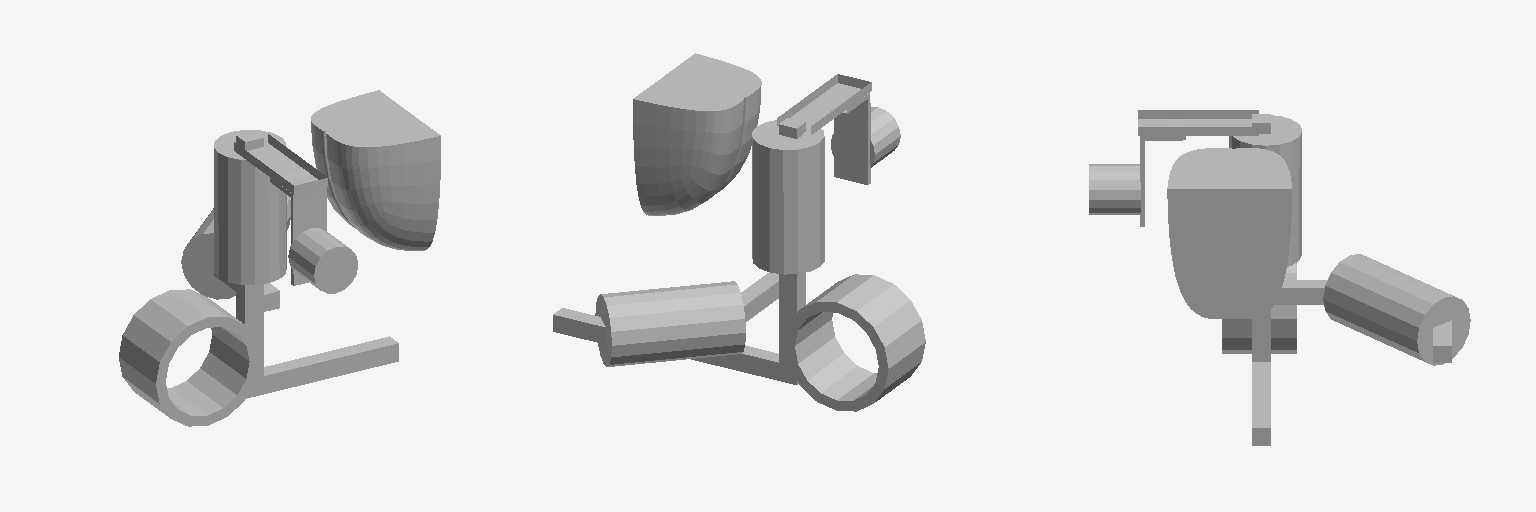
Rendered from backRight.obj.
3 views of the same model, side by side, from view 1: azimuth 30°, elevation 25°; view 2: azimuth 150°, elevation 25°; view 3: azimuth 270°, elevation 25° (orthographic).
Visible parts, largest first — view 1: Cube.007; view 2: Cube.007; view 3: Cube.007.
Boxes of the visible parts, box(x1,y1,x2,y2) form: Cube.007: box(119, 90, 440, 426); Cube.007: box(553, 53, 925, 411); Cube.007: box(1089, 110, 1470, 445).
Bounding box in the file's own units: 0.3156 × 0.3036 × 0.404.